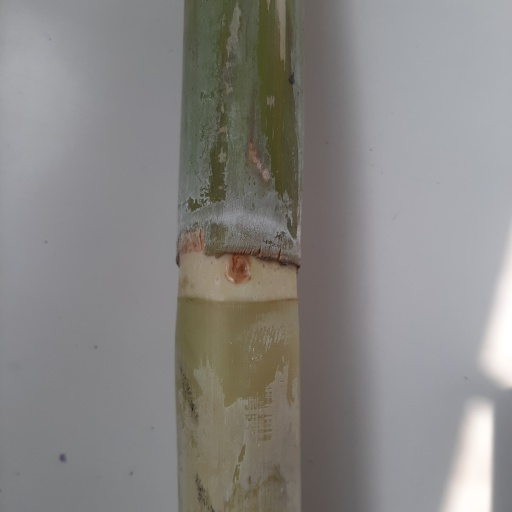Damage_Bud: (223, 252, 251, 283)
